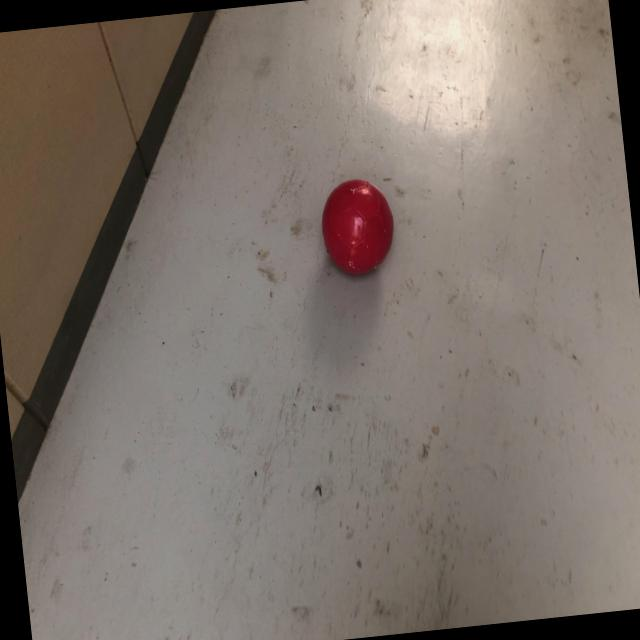red_ball: (318, 171, 398, 283)
